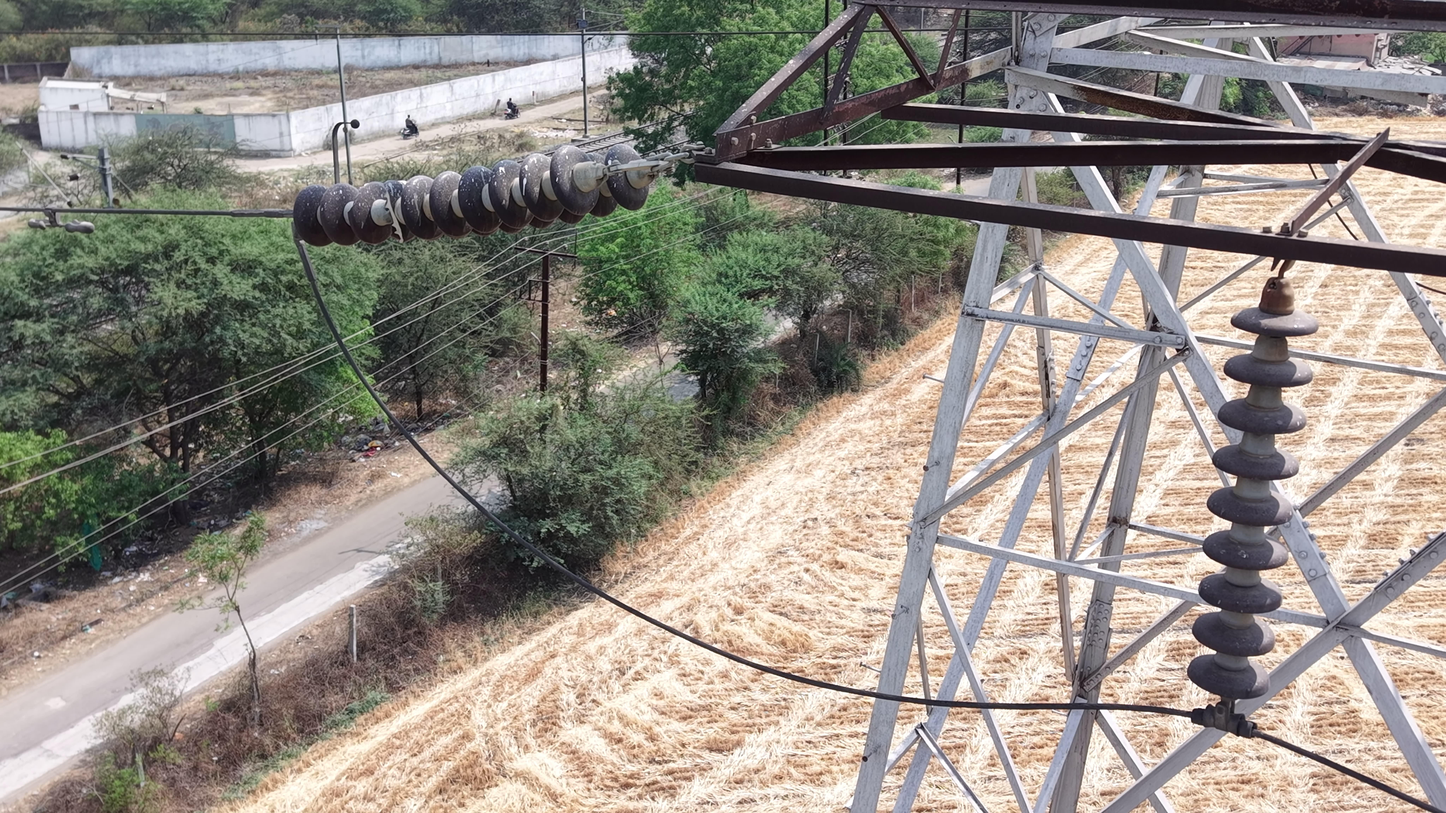broken_insulator: (346, 180, 384, 248), (381, 180, 413, 244)
